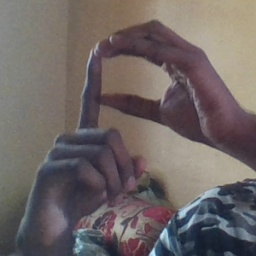P: (61, 17, 204, 187)
